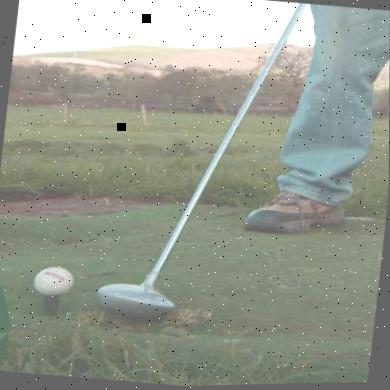ClubHead: (26, 258, 82, 308)
GolfBall: (89, 263, 193, 330)
